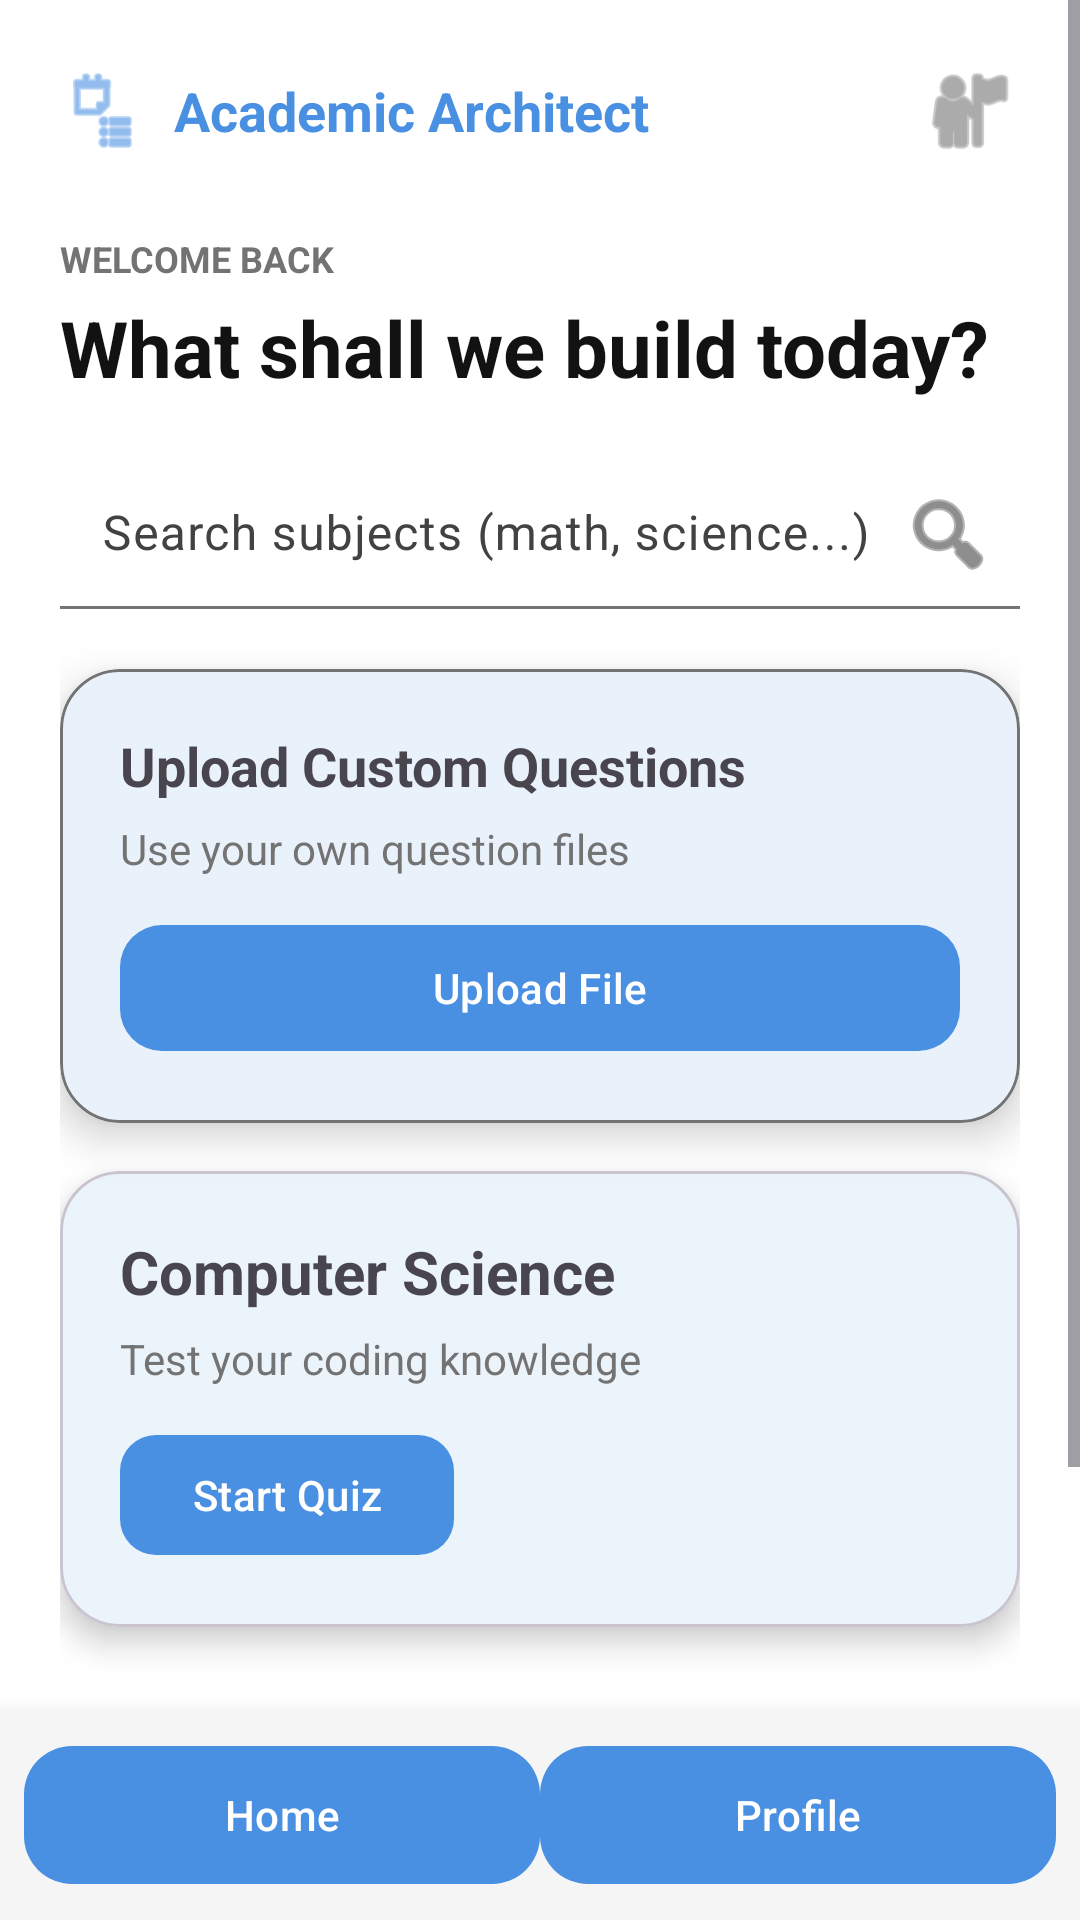

Icon bounding boxes for this 1080 x 1920 phone screenshot, format (x1, y1, x2, y2):
agenda: (73, 73, 132, 148)
myplaces: (932, 73, 1008, 149)
